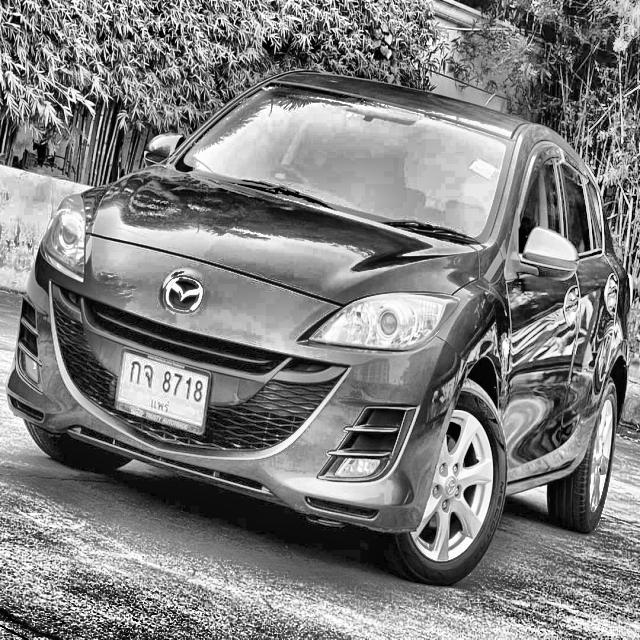license-plate: (112, 346, 214, 439)
